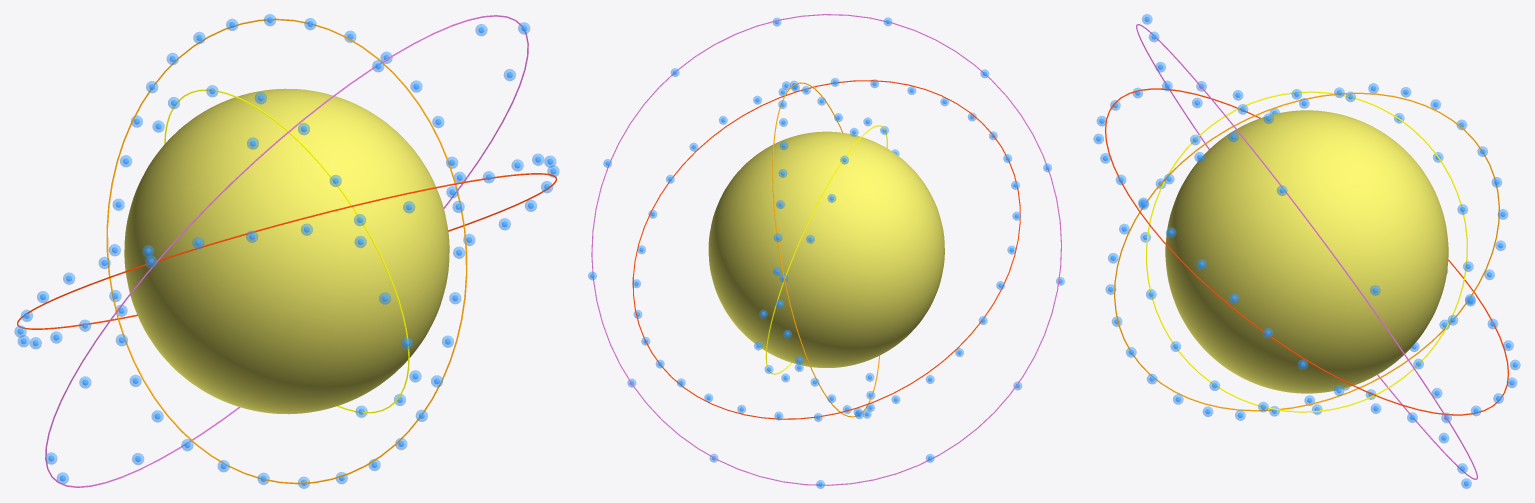
3 views of the same model, side by side, from view 1: azimuth 30°, elevation 25°; view 2: azimuth 150°, elevation 25°; view 3: azimuth 270°, elevation 25° (orthographic). The views are drawn at different scales.
Visible parts, largest first — view 1: Db, object 61, object 191, object 126, object 24; view 2: Db, object 191, object 126, object 61, object 24; view 3: Db, object 61, object 24, object 191, object 126.
Part boxes in pixels (x1,y1,x2,y2): Db: (124, 88, 449, 414); object 61: (106, 18, 467, 484); object 191: (45, 15, 528, 487); object 126: (17, 173, 556, 329); object 24: (164, 89, 409, 413); Db: (708, 131, 944, 367); object 191: (591, 14, 1061, 485); object 126: (632, 80, 1020, 419); object 61: (772, 82, 879, 417); object 24: (765, 125, 887, 374); Db: (1165, 110, 1448, 393); object 61: (1114, 92, 1499, 411); object 24: (1146, 91, 1467, 412); object 191: (1136, 24, 1477, 479); object 126: (1105, 88, 1508, 415).
Size of the model in its own units: 7.99 by 7.23 by 6.33.
